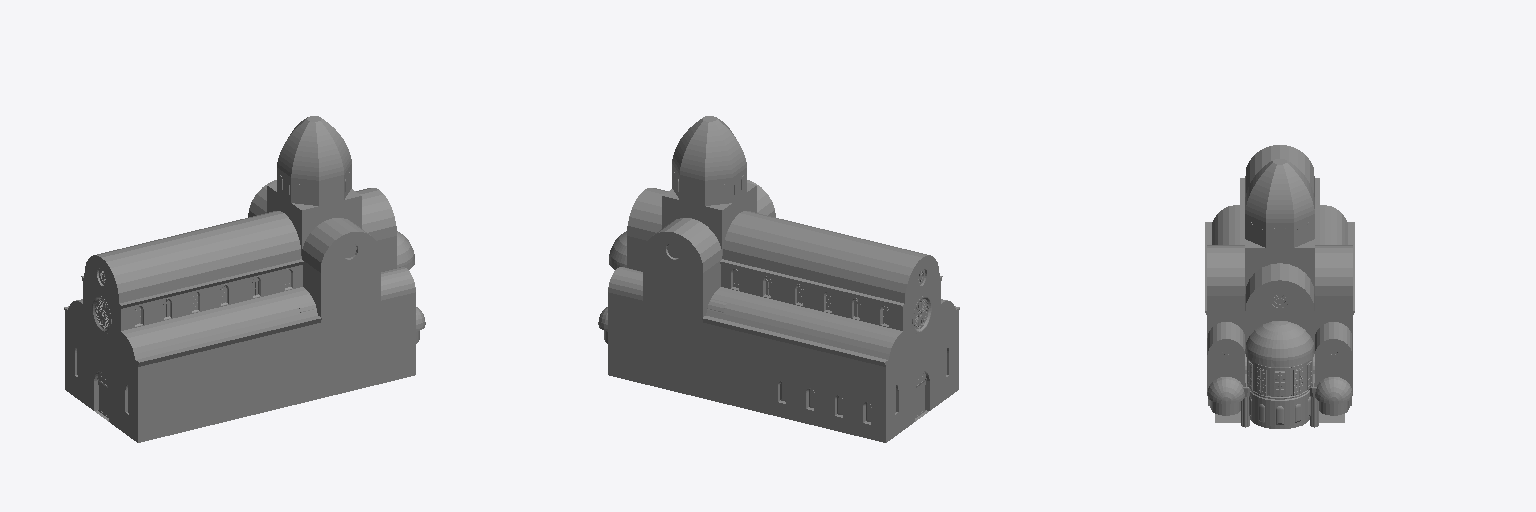
The model's file is sibenik.obj.
The picture shows the model from 3 angles: view 1: azimuth 30°, elevation 25°; view 2: azimuth 150°, elevation 25°; view 3: azimuth 270°, elevation 25°; orthographic projection.
Visible parts, largest first — view 1: test6-sve.lwo; view 2: test6-sve.lwo; view 3: test6-sve.lwo.
Boxes of the visible parts, x1=… form: test6-sve.lwo: x1=64, y1=116, x2=425, y2=442; test6-sve.lwo: x1=598, y1=116, x2=959, y2=442; test6-sve.lwo: x1=1205, y1=145, x2=1354, y2=428.
Bounding box in the file's own units: 40.28 × 30.6 × 16.99.